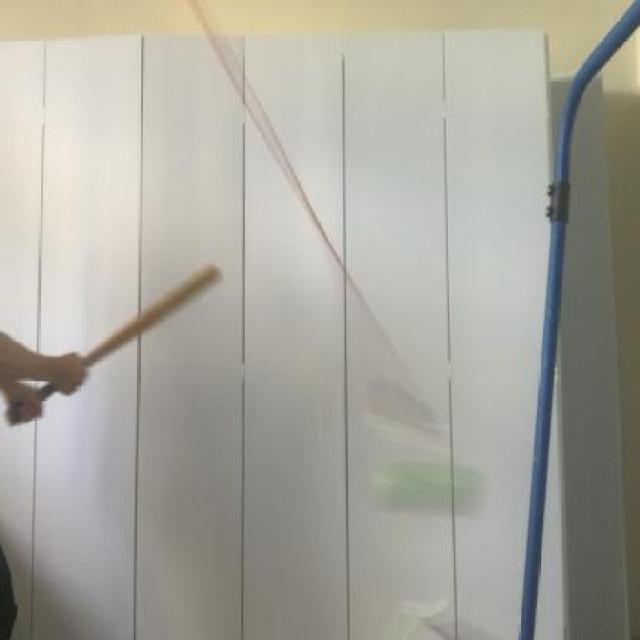baseball: (359, 438, 498, 516)
